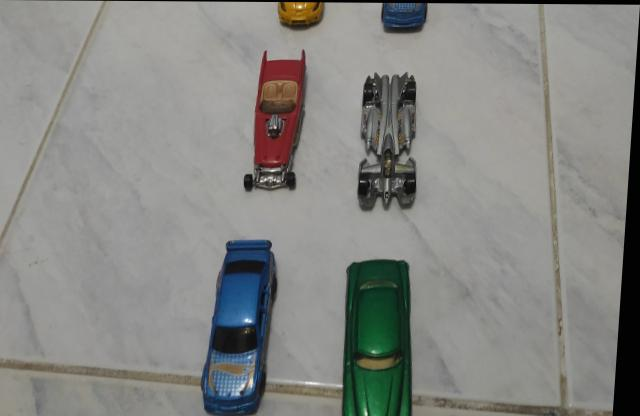03_V8: (244, 50, 309, 192)
04_MERZEDES: (206, 238, 281, 416), (379, 2, 430, 35)
05_DC121: (358, 72, 420, 213)
06_MASERATI: (346, 259, 418, 416)
07_RHLTURBO: (275, 2, 327, 31)
